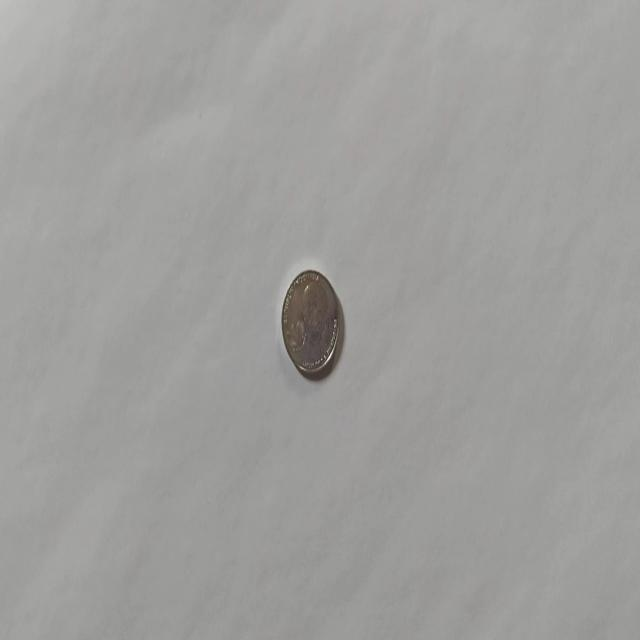lima ratus rupiah: (280, 267, 340, 377)
